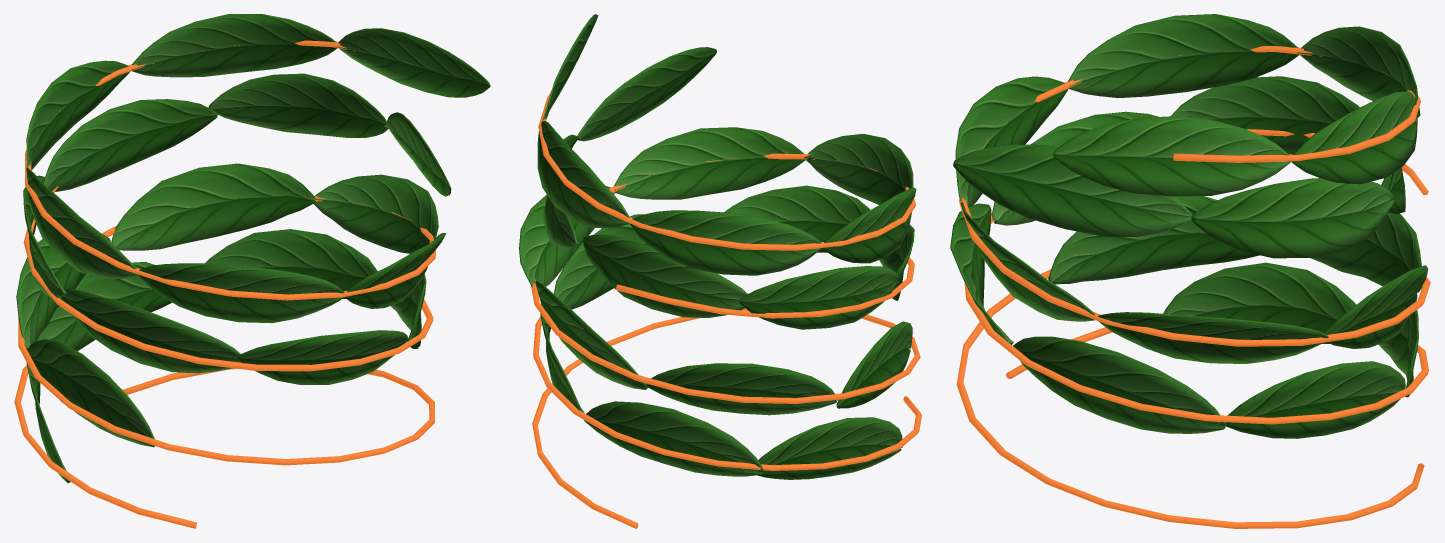
Rendered from Accesorio Pata.fbx.
3 views of the same model, side by side, from view 1: azimuth 30°, elevation 25°; view 2: azimuth 150°, elevation 25°; view 3: azimuth 270°, elevation 25° (orthographic). The views are drawn at different scales.
Parts seen in each view (by area): view 1: Accesorio Pata; view 2: Accesorio Pata; view 3: Accesorio Pata.
Boxes of the visible parts, x1,y1,x2,y2 form: Accesorio Pata: [14, 14, 490, 528]; Accesorio Pata: [519, 14, 921, 528]; Accesorio Pata: [950, 14, 1430, 528].
Bounding box in the file's own units: 282 × 281 × 270.
1 material, 1 textured.
